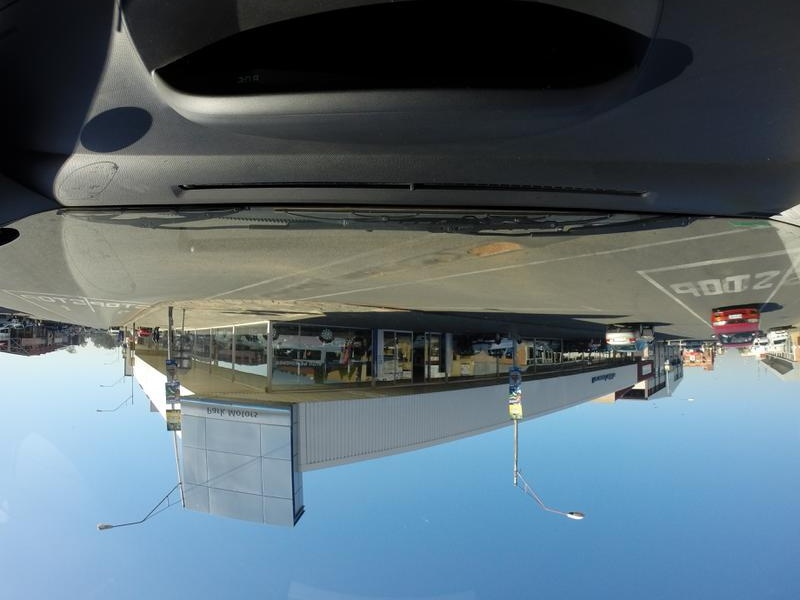pothole: (471, 240, 520, 263), (422, 255, 453, 268)
